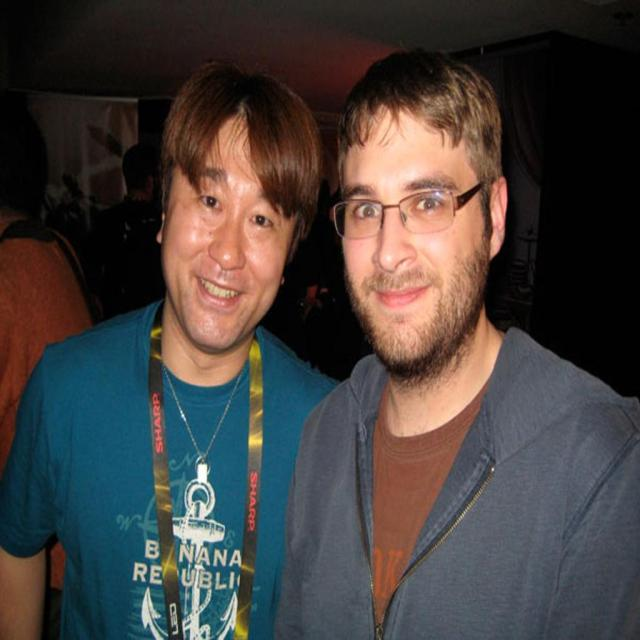Face: (339, 76, 501, 389), (156, 124, 306, 372)
